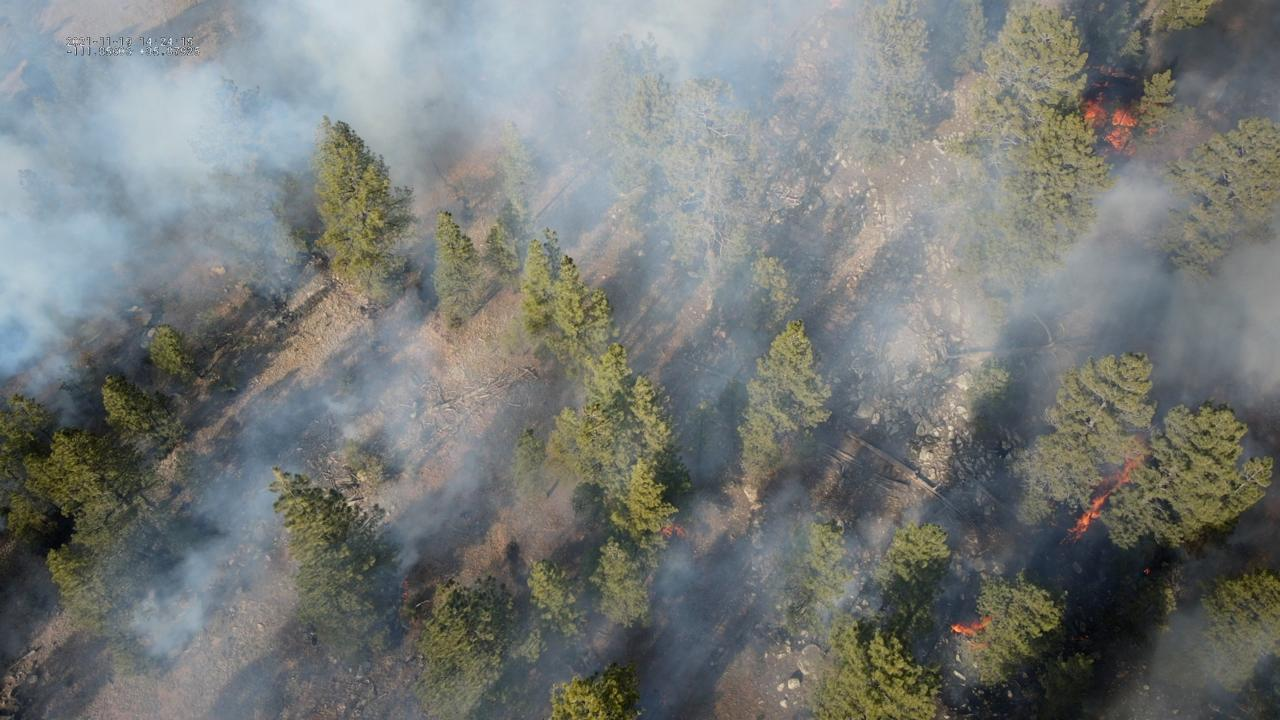fire: (1076, 457, 1151, 545), (1079, 92, 1140, 156), (949, 615, 995, 639), (659, 522, 689, 539), (1099, 64, 1121, 77), (400, 581, 410, 604), (1145, 126, 1159, 139), (1090, 81, 1101, 88), (1103, 82, 1109, 87)
smoke: (0, 0, 1280, 720), (1142, 615, 1280, 720)
